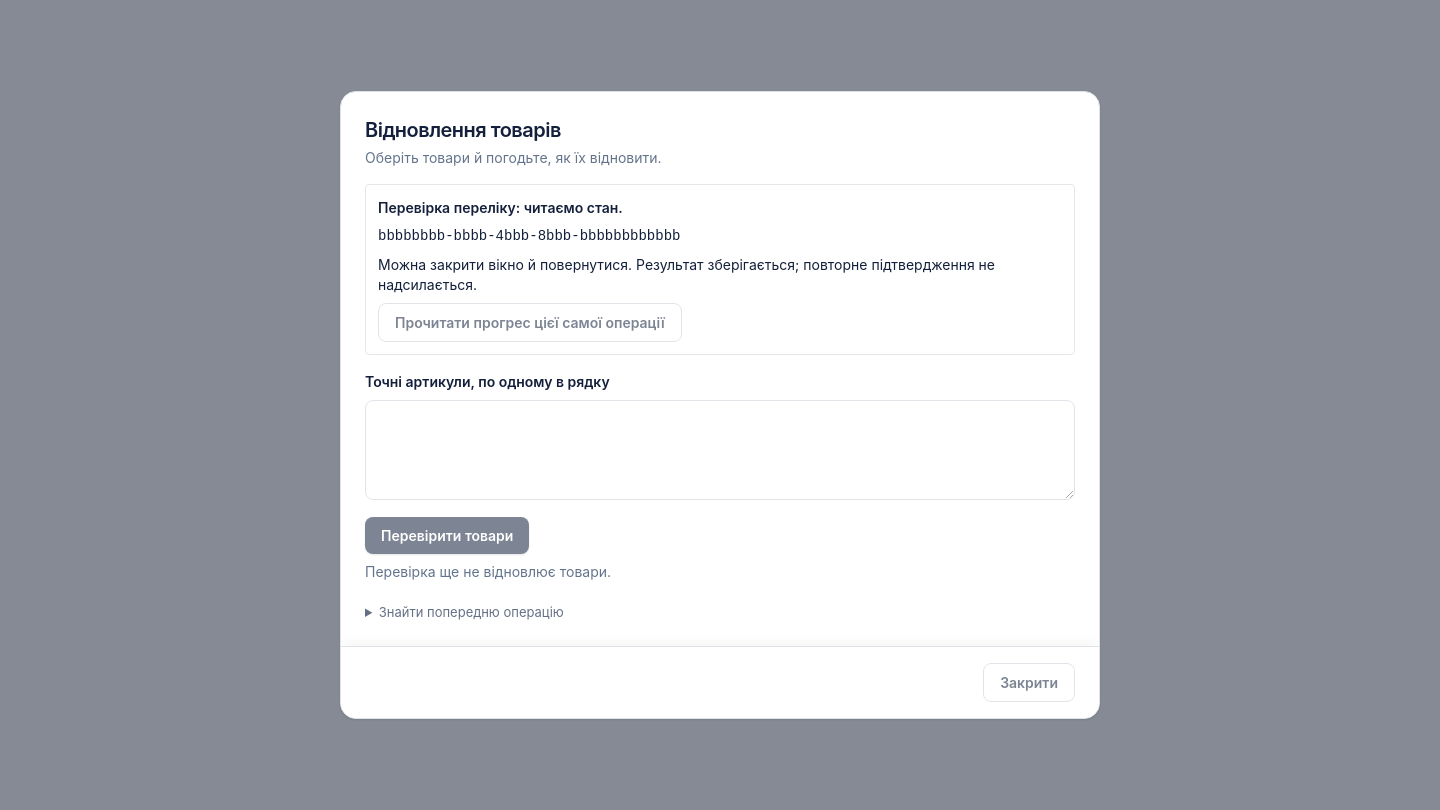
it: a late automatic read for the previous actor cannot unlock the new actor pending read
Click the button "Прочитати прогрес цієї самої операції": (530, 322) [378, 303, 682, 342]
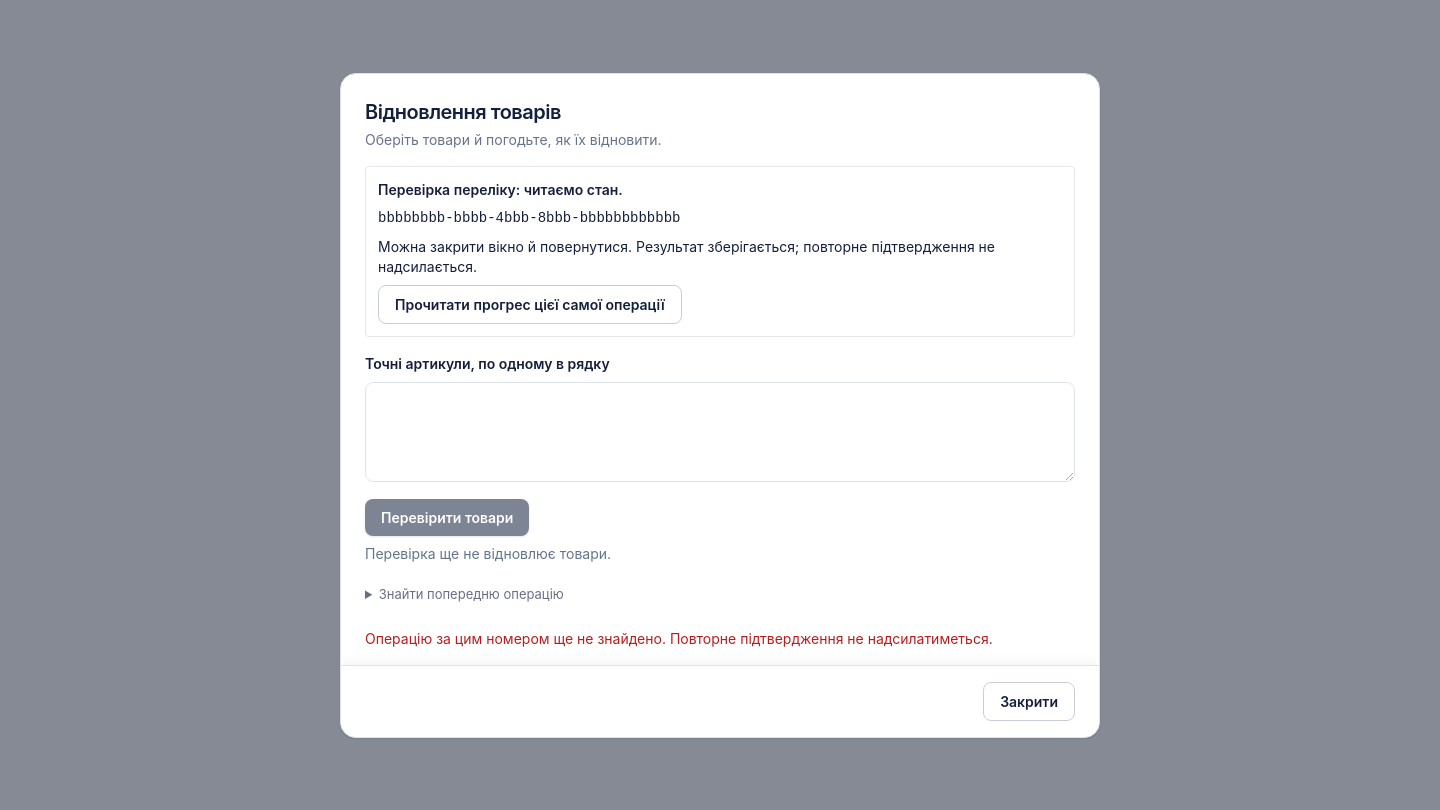
Check: the text "bbbbbbbb-bbbb-4bbb-8bbb-bbbbbbbbbbbb" is shown, box [378, 210, 680, 226]
Check: the button "Прочитати прогрес цієї самої операції" is enabled, box [378, 284, 682, 324]
Check: the 2nd message shows "Операцію за цим номером ще не знайдено. Повторне підтвердження не надсилатиметься.", box [365, 630, 993, 646]
